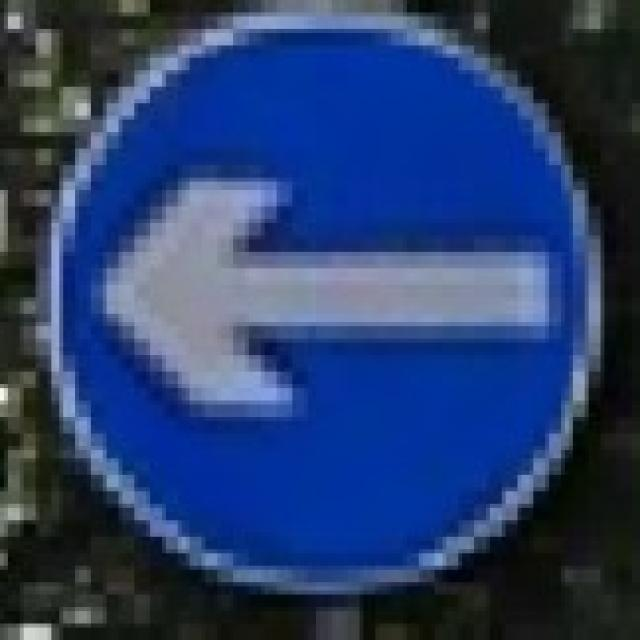Turn Left: (49, 34, 598, 579)
